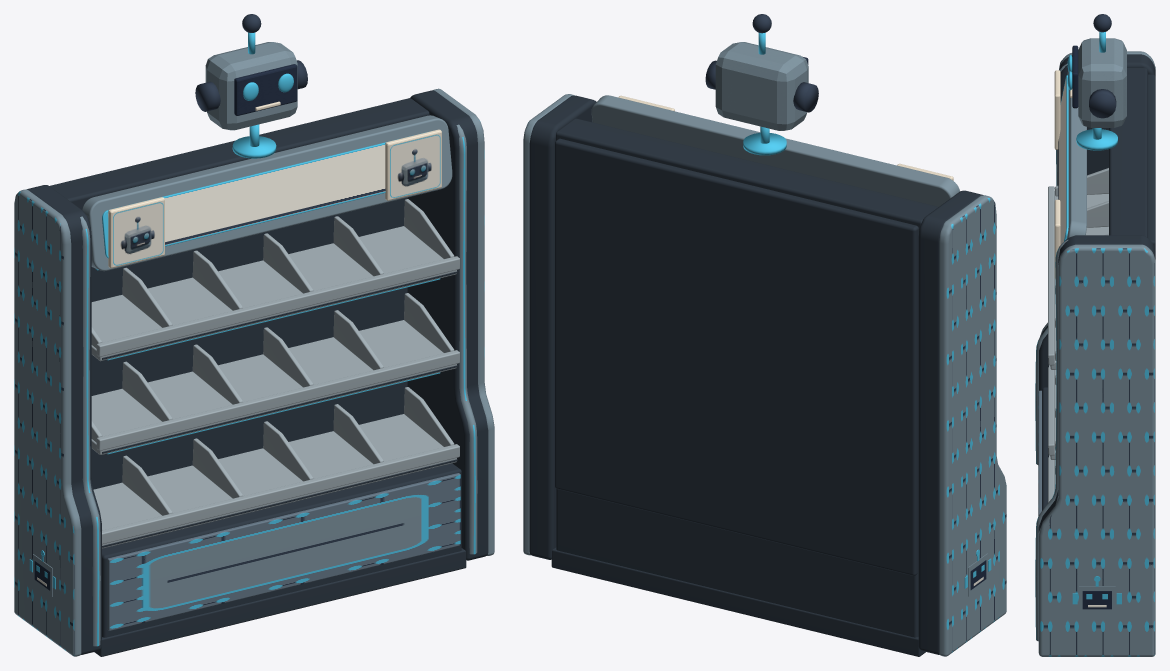
Rendered from TH_ROBOT.fbx.
3 views of the same model, side by side, from view 1: azimuth 30°, elevation 25°; view 2: azimuth 150°, elevation 25°; view 3: azimuth 270°, elevation 25° (orthographic). The views are drawn at different scales.
Parts seen in each view (by area): view 1: BaseFrontInset, Left_PaintedPanel, BackPanel.001, Right_StructuralWall, Tray_02, Tray_01, Tray_03, HeaderFace, HeaderBorder, TopCrossRail, Left_StructuralWall, ClosedSolidBase (+34 smaller); view 2: BackPanel.001, Left_PaintedPanel, ClosedSolidBase, Right_StructuralWall, HeaderBorder, Left_StructuralWall, TopCrossRail, LowerPlinth, Robot head, Right_PaintedPanel, TopperMount; view 3: Right_PaintedPanel, TopCrossRail, Robot head, HeaderBorder, Left_StructuralWall, HeaderFace, BackPanel.001, RightHousing, FrontLip_01, Right_StructuralWall, ClosedSolidBase, TopperMount (+15 smaller).
Part boxes in pixels (x1,y1,x2,y2): BaseFrontInset: (107, 473, 460, 630); Left_PaintedPanel: (14, 189, 81, 656); BackPanel.001: (91, 197, 407, 489); Right_StructuralWall: (407, 90, 488, 560); Tray_02: (91, 320, 456, 454); Tray_01: (91, 226, 456, 361); Tray_03: (93, 414, 456, 548); HeaderFace: (102, 132, 427, 258); HeaderBorder: (82, 115, 452, 271); TopCrossRail: (49, 98, 429, 209); Left_StructuralWall: (27, 185, 101, 654); ClosedSolidBase: (102, 463, 461, 637); BackPanel.001: (555, 138, 918, 575); Left_PaintedPanel: (939, 195, 1006, 656); ClosedSolidBase: (556, 489, 918, 637); Right_StructuralWall: (529, 95, 596, 559); HeaderBorder: (591, 95, 959, 206); Left_StructuralWall: (918, 190, 983, 654); TopCrossRail: (556, 118, 938, 232); LowerPlinth: (551, 547, 925, 656); Robot head: (715, 42, 808, 130); Right_PaintedPanel: (523, 94, 574, 555); TopperMount: (743, 133, 786, 155); Right_PaintedPanel: (1038, 244, 1155, 656); TopCrossRail: (1109, 68, 1147, 237); Robot head: (1078, 38, 1126, 127); HeaderBorder: (1067, 70, 1086, 238); Left_StructuralWall: (1039, 54, 1155, 390); HeaderFace: (1058, 75, 1068, 244); BackPanel.001: (1148, 74, 1155, 250); RightHousing: (1035, 239, 1068, 641); FrontLip_01: (1048, 186, 1054, 365); Right_StructuralWall: (1038, 235, 1155, 532); ClosedSolidBase: (1041, 387, 1047, 510); TopperMount: (1076, 129, 1117, 150).
Bounding box in the file's own units: 3.62 × 4.68 × 0.9273.
